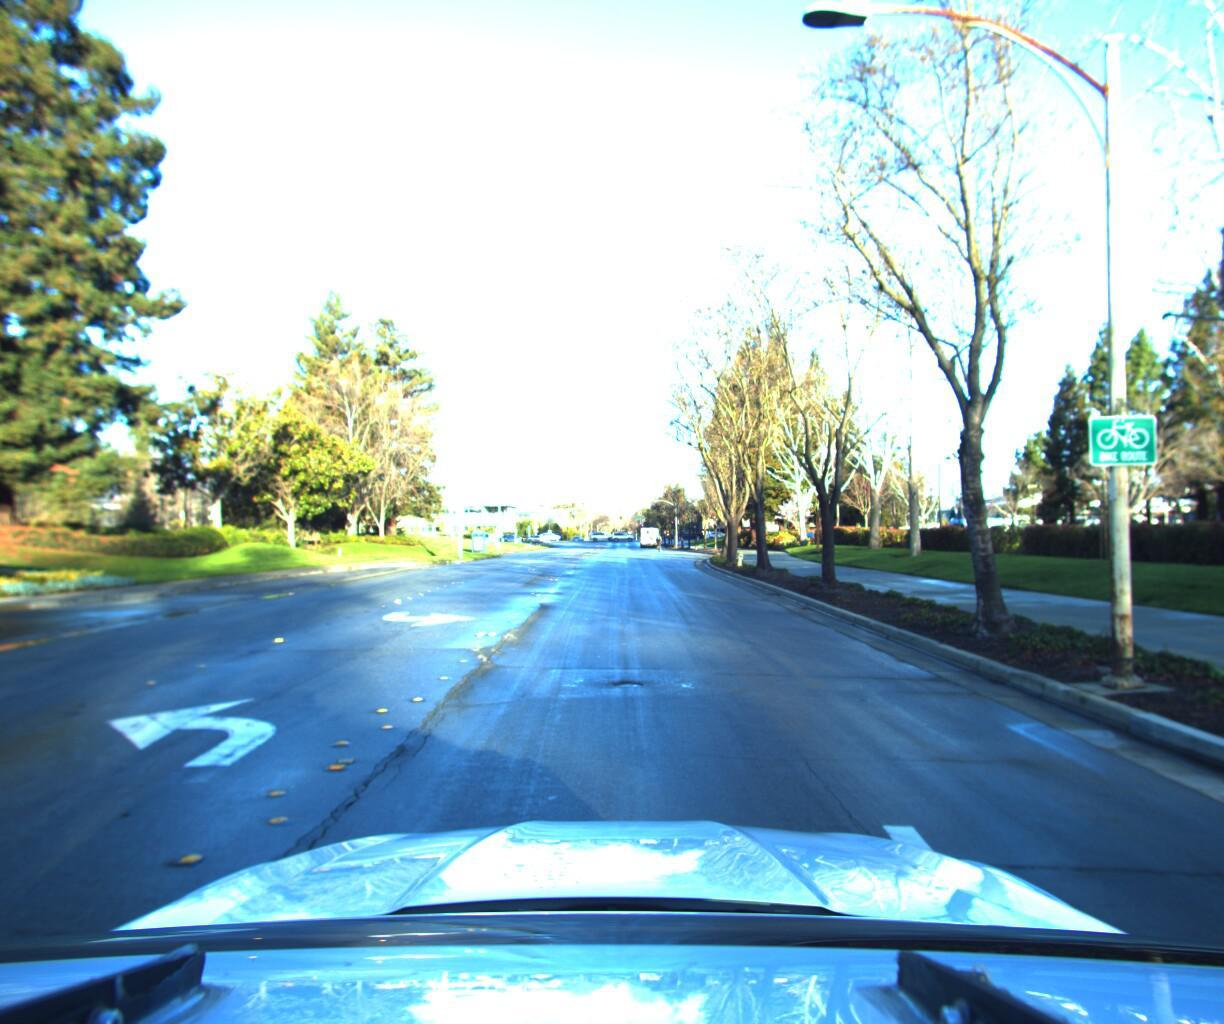other_vehicle: (779, 495, 806, 540)
